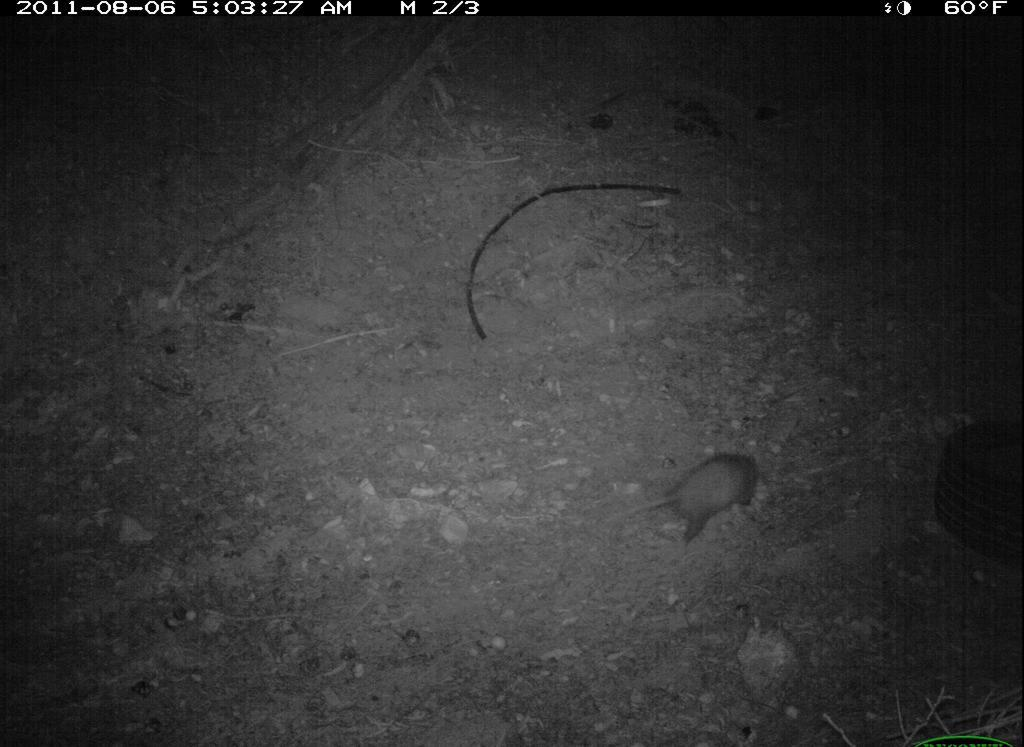opossum: (615, 442, 784, 550)
